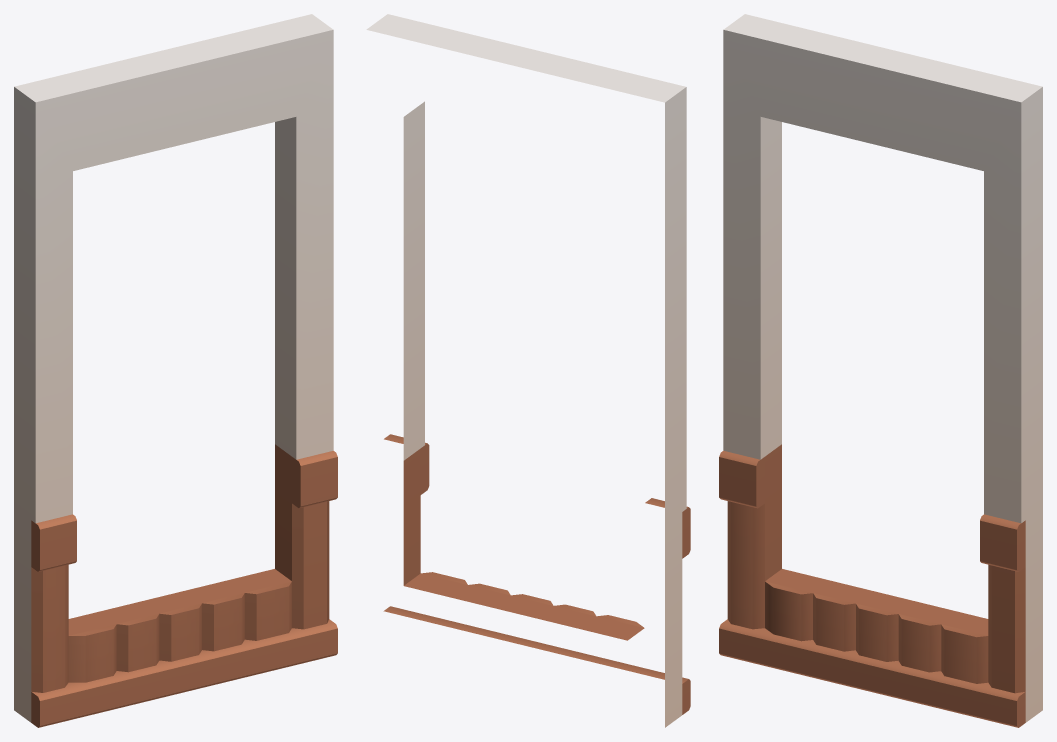
Rendered from wall-modular-panelled-bakery-window-large-a.glb.
3 views of the same model, side by side, from view 1: azimuth 30°, elevation 25°; view 2: azimuth 150°, elevation 25°; view 3: azimuth 330°, elevation 25° (orthographic).
Visible parts, largest first — view 1: wall_modular_panelled_bakery_window_large_A; view 2: wall_modular_panelled_bakery_window_large_A; view 3: wall_modular_panelled_bakery_window_large_A.
Part boxes in pixels (x1,y1,x2,y2): wall_modular_panelled_bakery_window_large_A: [14, 14, 337, 727]; wall_modular_panelled_bakery_window_large_A: [366, 14, 690, 727]; wall_modular_panelled_bakery_window_large_A: [719, 14, 1042, 727].
Size of the model in its own units: 2 by 4 by 0.3.
Materials: 1 (1 with a texture image).
